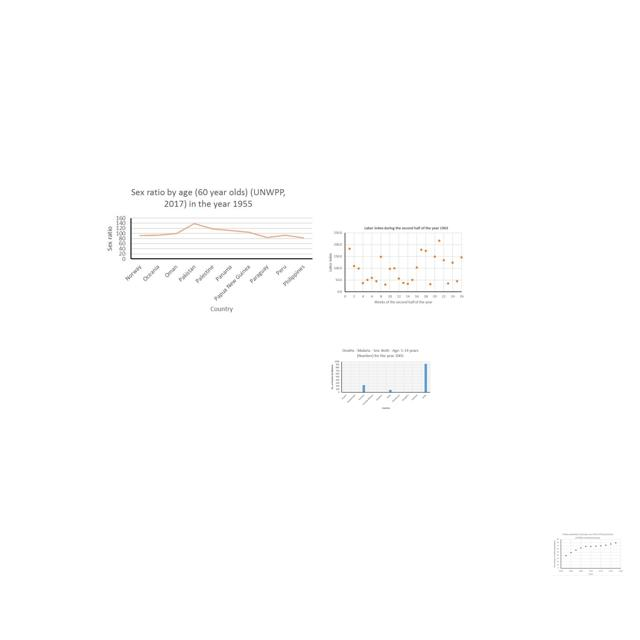Graph: (99, 181, 318, 319), (328, 225, 465, 305), (329, 347, 432, 410), (552, 532, 624, 576)
